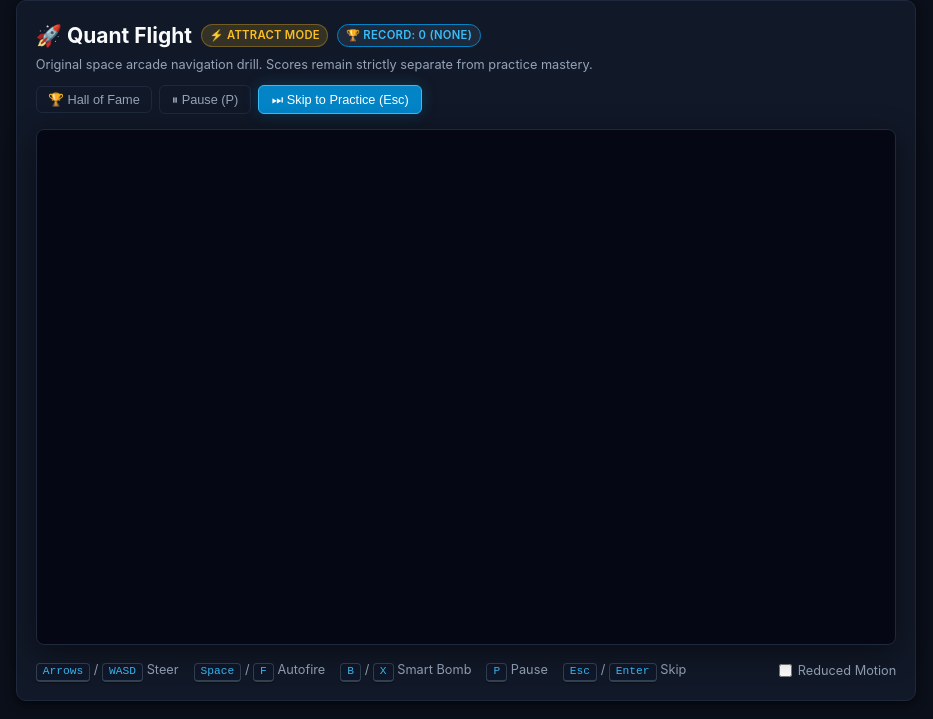
Test: ArcadeGame Component › opens and closes Hall of Fame leaderboard overlay
Click the button "🏆 Hall of Fame".
click(94, 100)  # box [36,86,152,113]
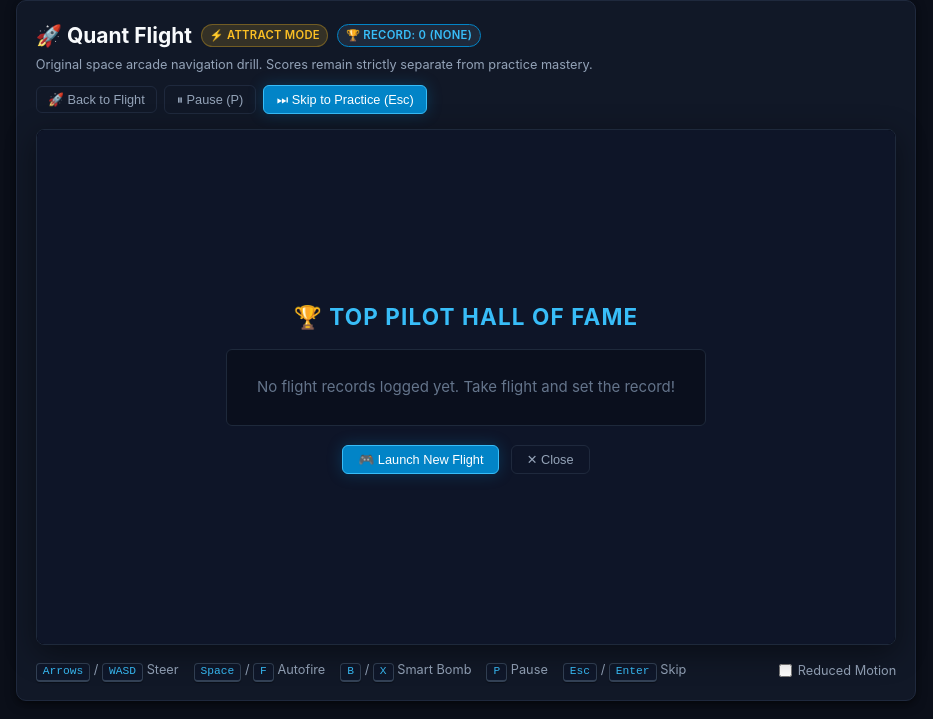
Expected: the heading "🏆 TOP PILOT HALL OF FAME" is shown, [294,300,638,334]
Expected: the button "🎮 Launch New Flight" is shown, [342,445,500,474]
// Close overlay
Click the button "✕ Close".
click(550, 459)  # box [511,445,590,474]
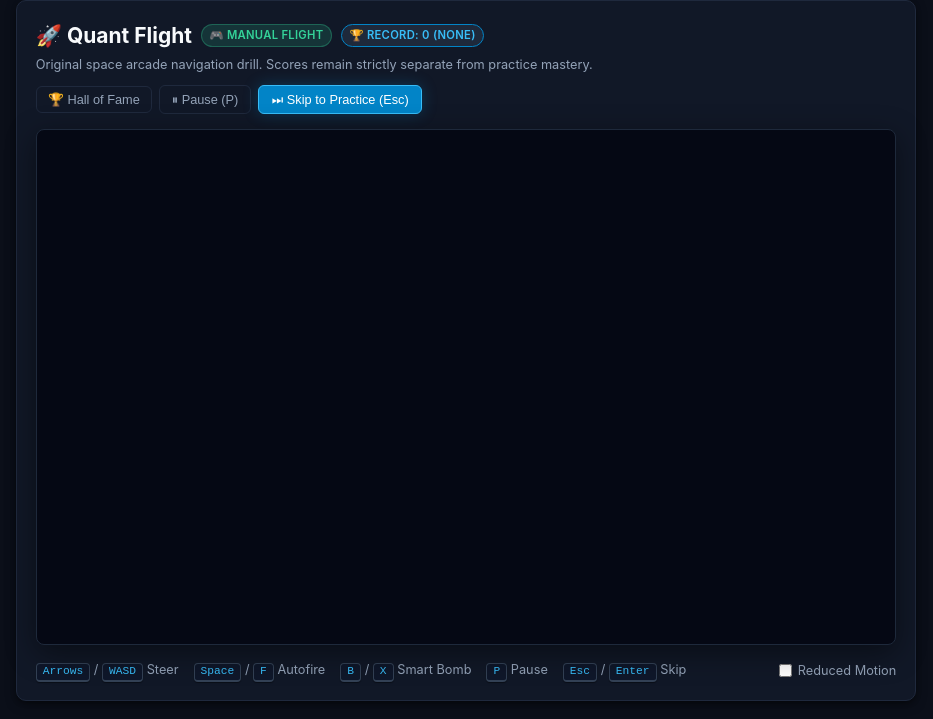
Expected: the heading "TOP PILOT HALL OF FAME" is gone
